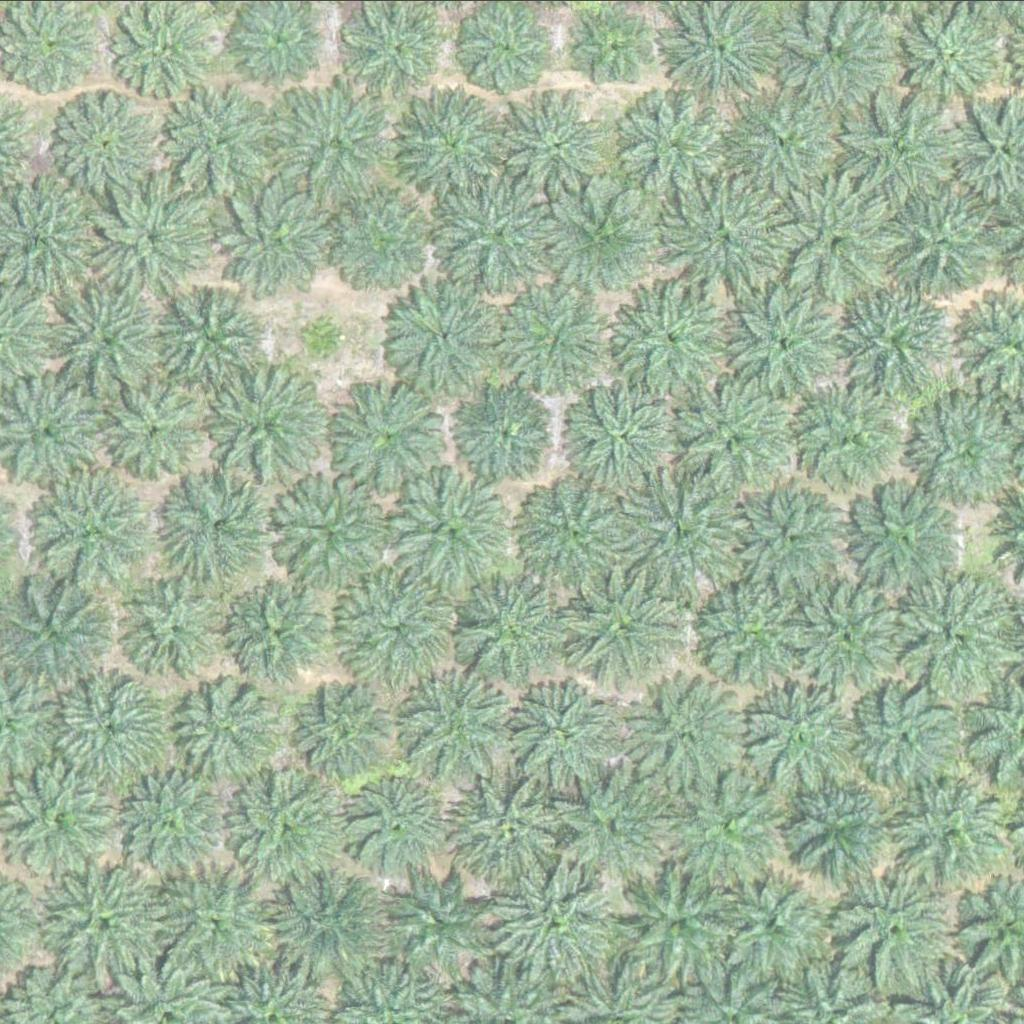Kelapa_Sawit: (31, 467, 157, 592), (440, 169, 566, 294), (50, 276, 176, 401), (514, 470, 640, 595), (333, 563, 459, 688), (455, 564, 581, 689), (567, 564, 693, 689), (109, 757, 235, 882), (446, 769, 572, 894), (557, 761, 683, 886), (492, 865, 618, 990), (262, 861, 388, 986), (155, 865, 281, 990), (47, 858, 173, 983), (609, 863, 735, 988), (708, 859, 834, 984), (829, 863, 955, 988), (664, 771, 790, 896), (746, 677, 872, 802), (623, 674, 749, 799), (786, 567, 912, 692), (894, 568, 1020, 693), (676, 386, 802, 511), (661, 176, 787, 301), (776, 180, 902, 305), (386, 472, 511, 597), (269, 470, 394, 595), (49, 663, 174, 788), (692, 567, 817, 692), (787, 381, 912, 506), (896, 771, 1010, 884), (727, 87, 841, 200), (620, 90, 734, 203), (548, 179, 661, 292), (502, 285, 615, 398), (384, 282, 497, 395), (162, 280, 275, 393), (177, 674, 290, 787), (784, 768, 897, 881), (850, 484, 963, 597), (736, 483, 849, 596), (621, 470, 734, 583), (848, 94, 961, 207), (53, 92, 167, 204), (159, 88, 273, 200), (277, 87, 391, 199), (98, 179, 212, 291), (223, 181, 337, 293), (392, 90, 505, 202), (325, 379, 438, 491), (571, 369, 684, 481), (164, 473, 277, 585), (119, 571, 232, 683), (507, 683, 620, 795), (401, 667, 514, 779), (236, 770, 349, 882), (854, 679, 967, 791), (833, 281, 946, 393), (730, 289, 843, 401), (620, 284, 733, 396), (890, 184, 1003, 296), (506, 93, 607, 193), (330, 188, 431, 288), (102, 381, 203, 481), (220, 374, 321, 474), (457, 381, 558, 481), (229, 583, 330, 683), (295, 679, 396, 779), (345, 774, 446, 874), (386, 872, 486, 972), (900, 7, 1000, 107), (465, 2, 553, 90), (580, 12, 656, 87), (301, 312, 351, 362)
